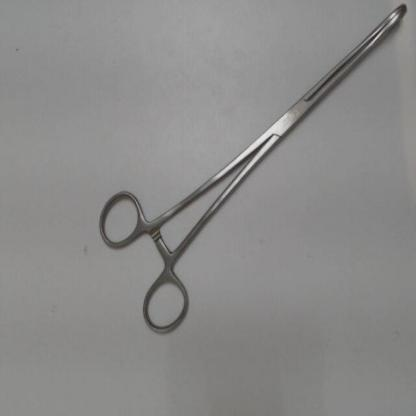Sponge Forceps: (90, 0, 414, 341)
